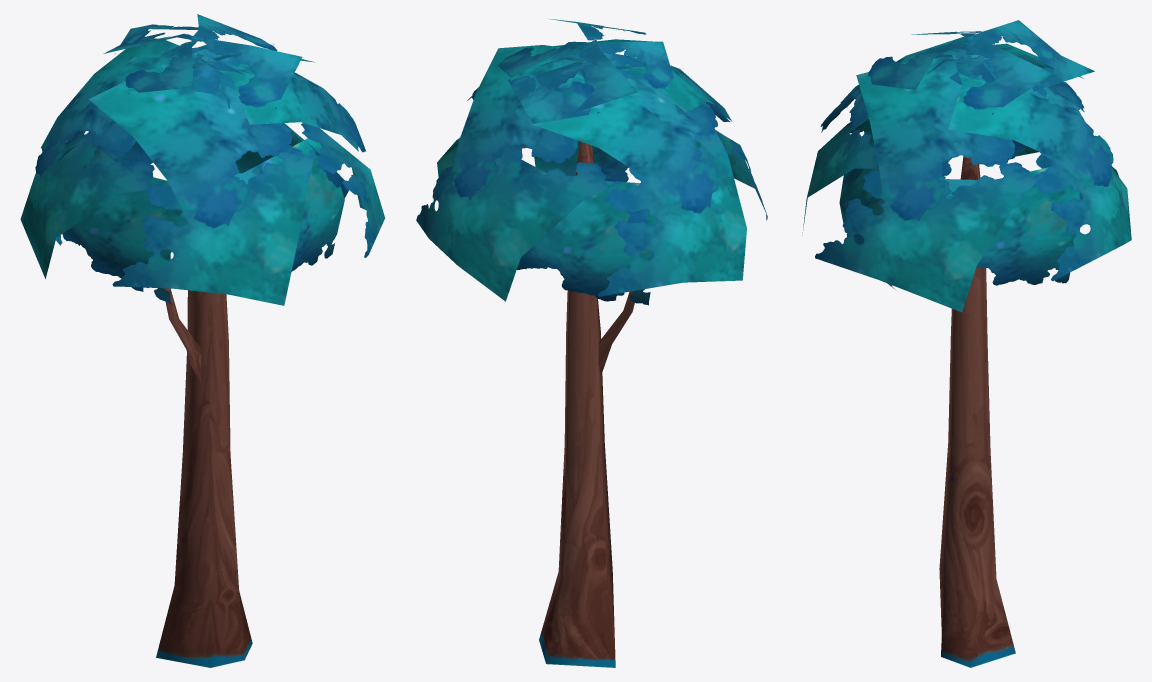
File: nameikexingshu02.FBX
3 views of the same model, side by side, from view 1: azimuth 30°, elevation 25°; view 2: azimuth 150°, elevation 25°; view 3: azimuth 270°, elevation 25° (orthographic). The views are drawn at different scales.
Visible parts, largest first — view 1: nameikexingshu02; view 2: nameikexingshu02; view 3: nameikexingshu02.
Part boxes in pixels (<box>): nameikexingshu02: <box>20,14,384,667</box>; nameikexingshu02: <box>416,19,767,667</box>; nameikexingshu02: <box>802,20,1131,667</box>.
Bounding box in the file's own units: 320 × 612 × 304.
